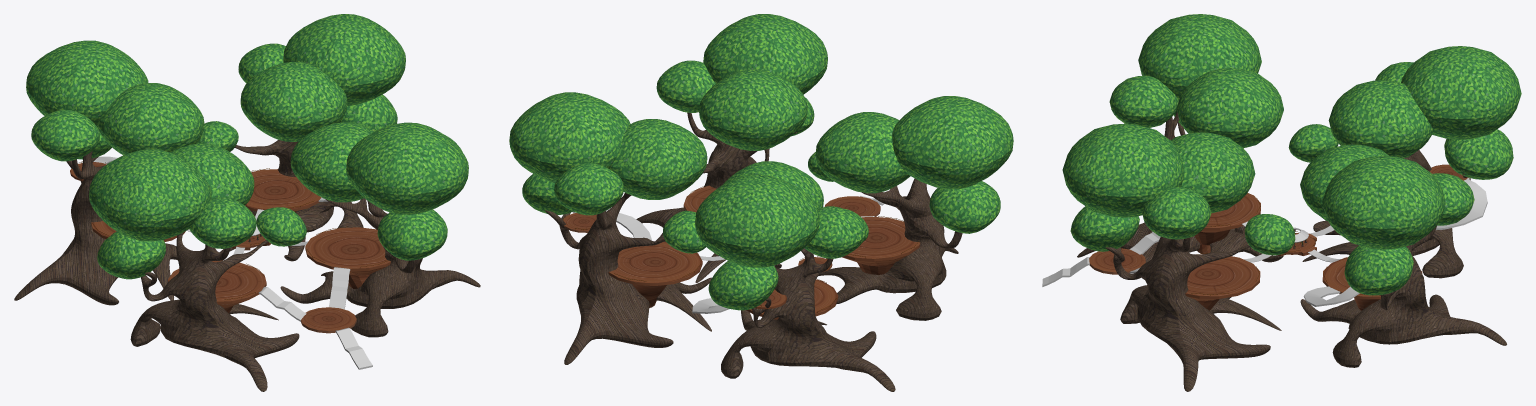
File: SatyrVillage.fbx
The picture shows the model from 3 angles, left to right: view 1: azimuth 30°, elevation 25°; view 2: azimuth 150°, elevation 25°; view 3: azimuth 270°, elevation 25°; orthographic projection. The views are drawn at different scales.
Parts seen in each view (by area): view 1: Cube_3_8, Sphere_2_3, Sphere_3_4, Sphere, Sphere_4_5, Sphere_3, Cube_2_8, Sphere_3_5, Cube_4_8, Sphere_3_2, боковая_платформа_3, Sphere_4_2 (+15 smaller); view 2: Cube, Sphere_4_5, Sphere_3_4, Cube_4_8, Sphere, Cube_3_8, Sphere_3_2, Sphere_2_3, Sphere_3, Sphere_3_3, боковая_платформа_2, Sphere_1 (+14 smaller); view 3: Cube_2_8, Sphere, Sphere_2_3, Sphere_4_5, Cube, Sphere_3_4, Sphere_3_3, Sphere_3_5, Sphere_3_2, Sphere_4, Sphere_1_2, Sphere_1_3 (+17 smaller).
Part boxes in pixels (x1,y1,x2,y2): Cube_3_8: (130,232,299,391); Sphere_2_3: (346,122,468,214); Sphere_3_4: (89,149,211,241); Sphere: (283,14,405,105); Sphere_4_5: (26,40,148,127); Sphere_3: (240,61,347,141); Cube_2_8: (280,198,480,337); Sphere_3_5: (97,83,204,155); Cube_4_8: (14,151,177,305); Sphere_3_2: (290,122,373,202); боковая_платформа_3: (305,227,390,288); Sphere_4_2: (377,209,447,260); Cube: (545,193,711,364); Sphere_4_5: (695,174,819,267); Sphere_3_4: (892,96,1013,189); Cube_4_8: (721,248,895,391); Sphere: (509,92,630,182); Cube_3_8: (818,178,962,320); Sphere_3_2: (699,69,807,150); Sphere_2_3: (703,14,827,94); Sphere_3: (609,119,707,199); Sphere_3_3: (815,112,910,193); боковая_платформа_2: (608,242,702,307); Sphere_1: (554,163,623,215); Cube_2_8: (1105,236,1281,391); Sphere: (1322,155,1445,249); Sphere_2_3: (1062,123,1184,217); Sphere_4_5: (1401,46,1521,139); Cube: (1300,226,1506,367); Sphere_3_4: (1138,14,1261,101); Sphere_3_3: (1176,68,1283,148); Sphere_3_5: (1328,80,1433,158); Sphere_3_2: (1171,132,1255,213); Sphere_4: (1344,245,1413,295); Sphere_1_2: (1142,187,1211,239); Sphere_1_3: (1109,75,1178,127).
Size of what is drawn, in the model's own units: 49471 by 24954 by 51645.
